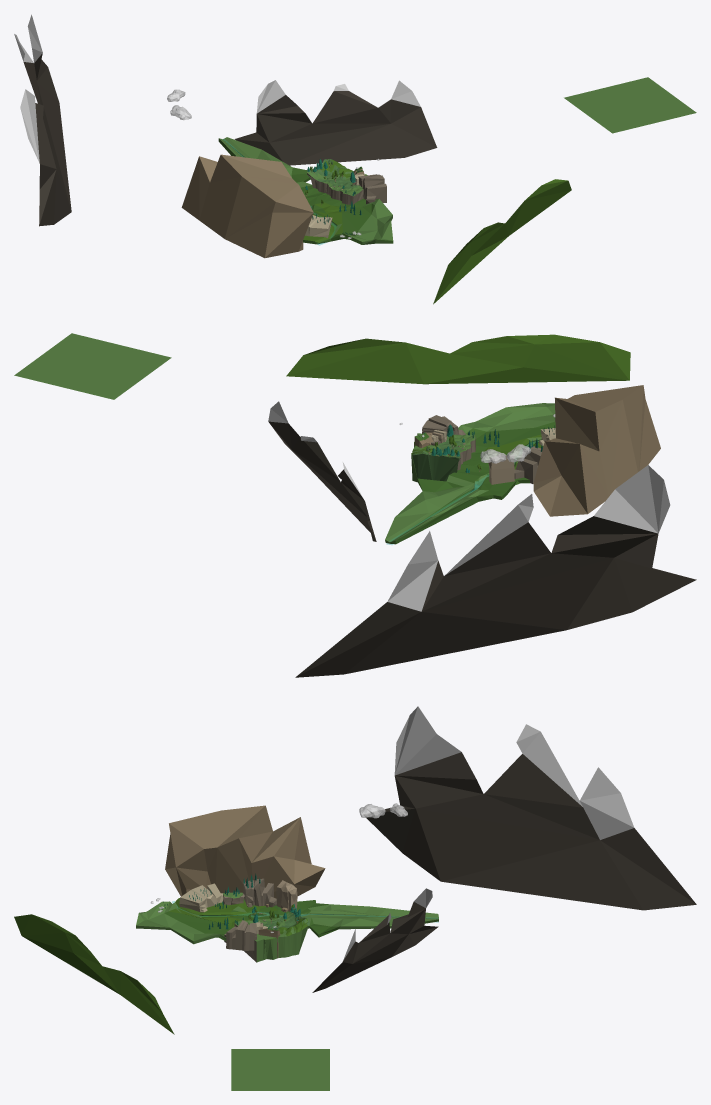
The model's file is environment.2ca9478c.dae.
The picture shows the model from 3 angles, top to bottom: view 1: azimuth 30°, elevation 25°; view 2: azimuth 150°, elevation 25°; view 3: azimuth 270°, elevation 25°; orthographic projection. The views are drawn at different scales.
Parts seen in each view (by area): view 1: Plane_003, Cube_087, Plane_002, Cube_020, Plane, Plane_005, Cube_003, Cube_008, Cube_018; view 2: Plane_002, Plane_005, Cube_087, Cube_020, Plane, Plane_003, Cube_003, Cube_010, Cube_012; view 3: Plane_002, Cube_087, Cube_020, Plane, Plane_005, Plane_003, Cube_003, Cube_018, Cube_008, Cube_012.
Boxes of the visible parts, x1,y1,x2,y2 form: Plane_003: (234, 80, 437, 165); Cube_087: (181, 154, 313, 258); Plane_002: (14, 14, 71, 226); Cube_020: (218, 137, 393, 244); Plane: (564, 77, 696, 133); Plane_005: (433, 179, 571, 304); Cube_003: (307, 159, 367, 204); Cube_008: (358, 174, 386, 203); Cube_018: (305, 215, 332, 238); Plane_002: (295, 465, 696, 677); Plane_005: (286, 334, 630, 384); Cube_087: (533, 385, 660, 516); Cube_020: (385, 403, 555, 544); Plane: (14, 333, 171, 399); Plane_003: (268, 401, 376, 541); Cube_003: (411, 433, 475, 482); Cube_010: (488, 455, 514, 486); Cube_012: (514, 445, 541, 483); Plane_002: (364, 706, 696, 910); Cube_087: (165, 805, 325, 898); Cube_020: (136, 898, 438, 944); Plane: (231, 1049, 329, 1090); Plane_005: (14, 914, 174, 1034); Plane_003: (312, 888, 438, 992); Cube_003: (234, 909, 309, 962); Cube_018: (179, 883, 229, 912); Cube_008: (224, 920, 256, 950); Cube_012: (243, 878, 276, 907).
Bounding box in the file's own units: 588 × 580 × 142.
